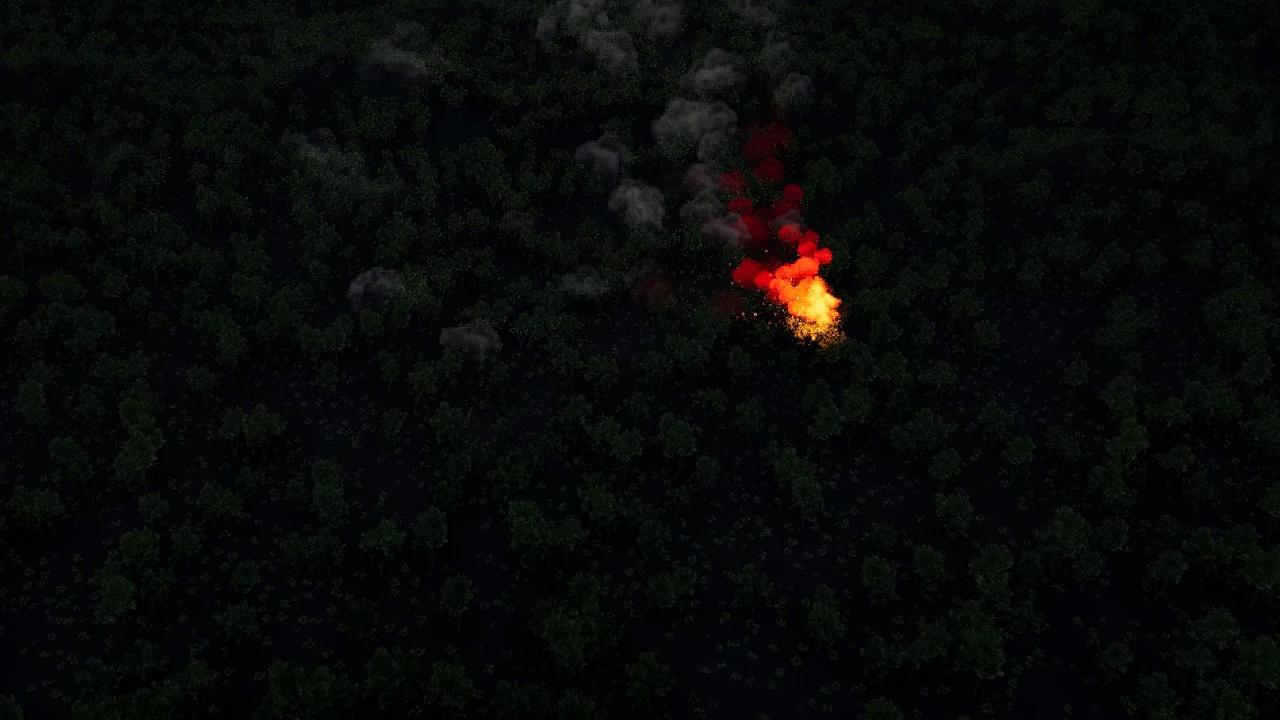fire: (764, 235, 842, 329)
smoke: (551, 0, 817, 294), (354, 29, 428, 85), (438, 321, 499, 366), (343, 266, 401, 311), (291, 130, 344, 171)
